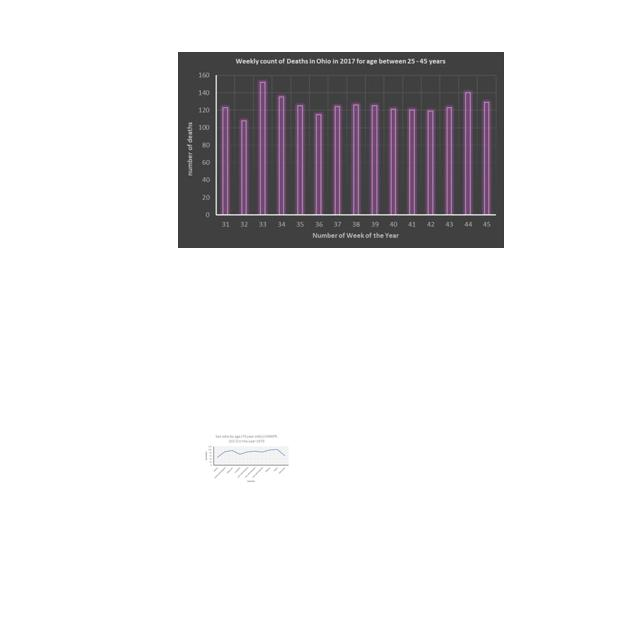Graph: (178, 52, 504, 248), (203, 433, 290, 484)
